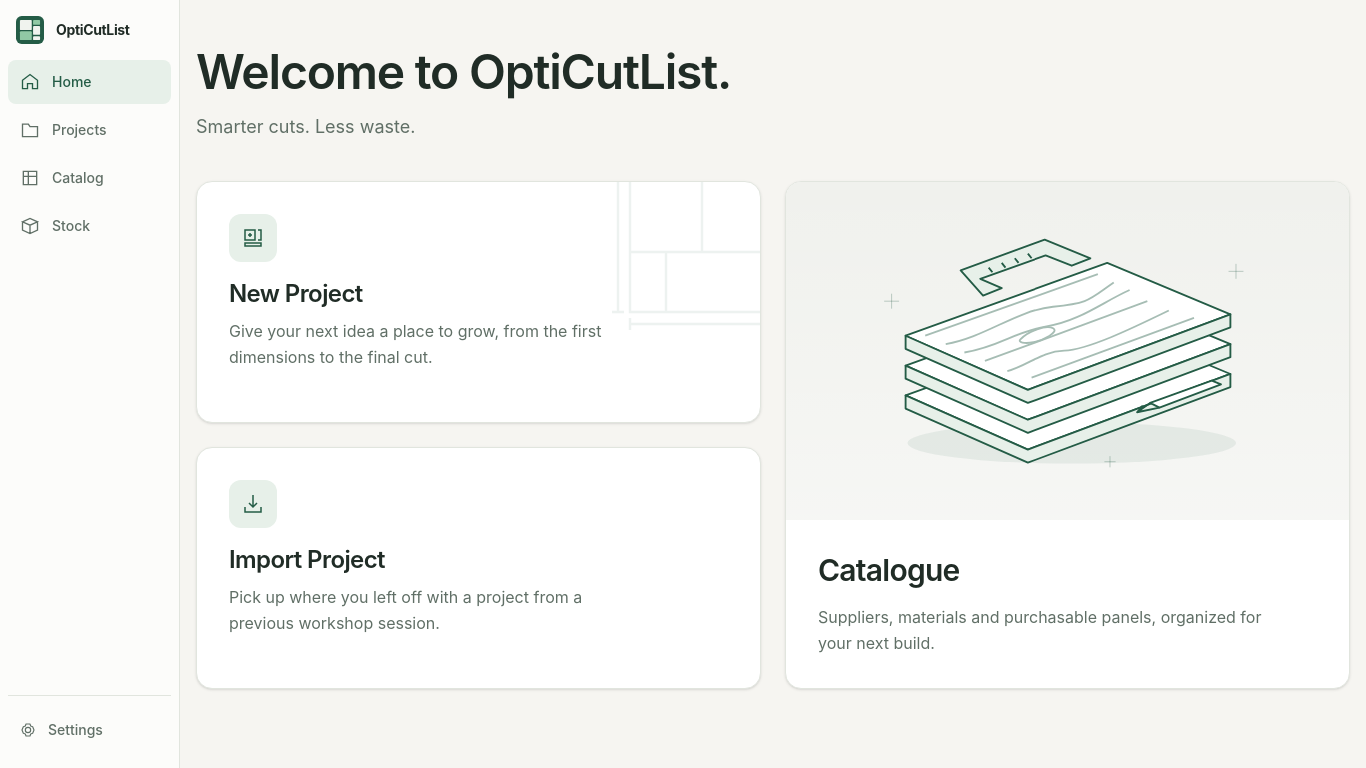
Test: Home and application navigation › keeps branding and moves theme selection into Settings
Expected: the link "OptiCutList" is shown, [16,16,130,44]
Click the button "Settings". click: [90, 730]
box: [8,708,171,752]
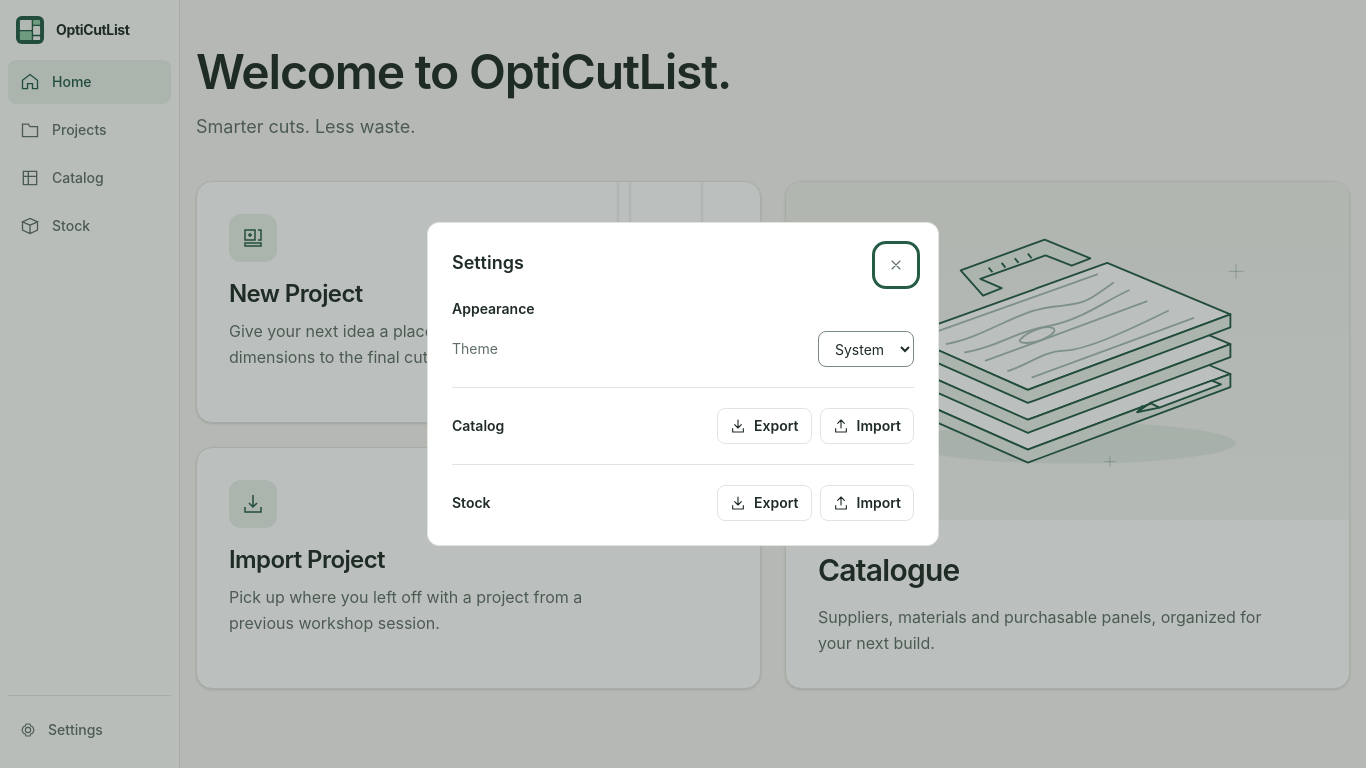
Expected: the element named "Application navigation" is shown, [0,0,180,767]
Now the dropdown with id "theme-preference" is shown, box [818,331,914,367]
